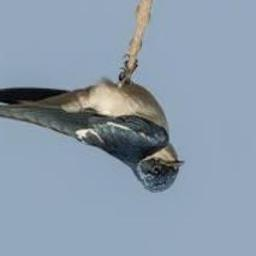Swallow: (0, 67, 184, 193)
